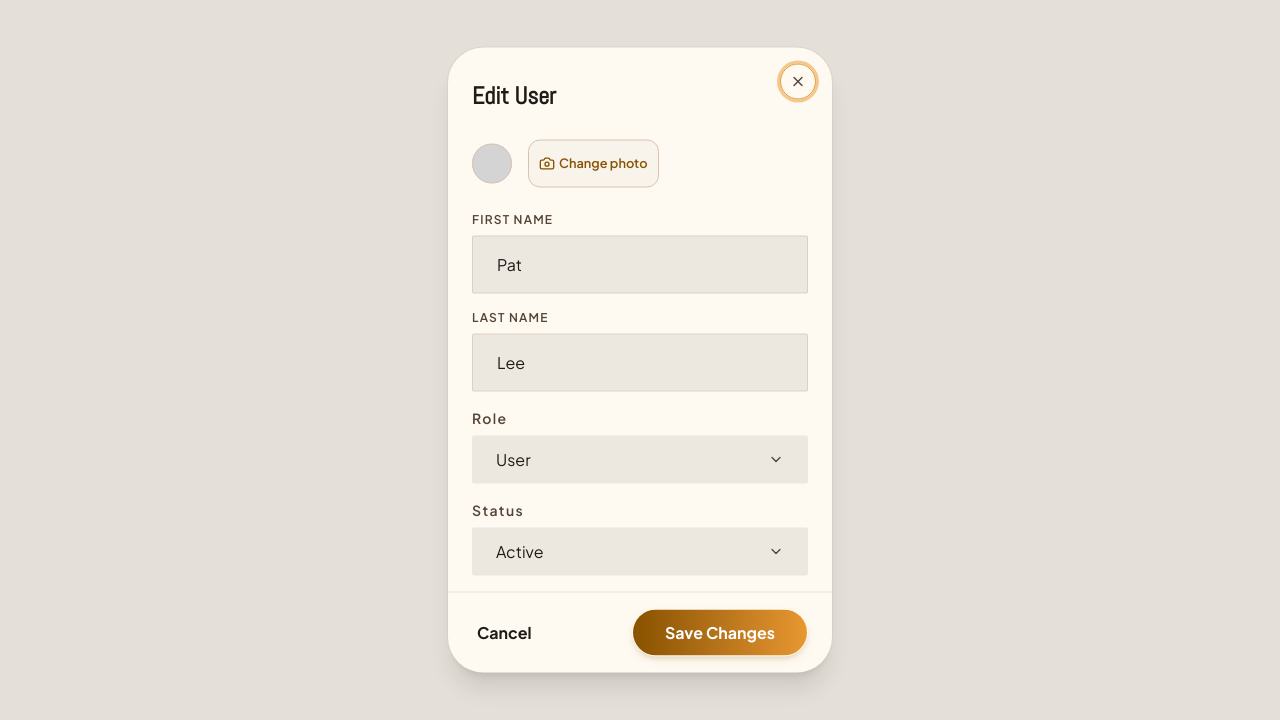
EditUserForm › shows the API error and keeps the dialog open on failure
The width and height of the screenshot is (1280, 720).
Step 1. Click the button "Save Changes" → {"x": 720, "y": 632}, box [632,608,808,656]
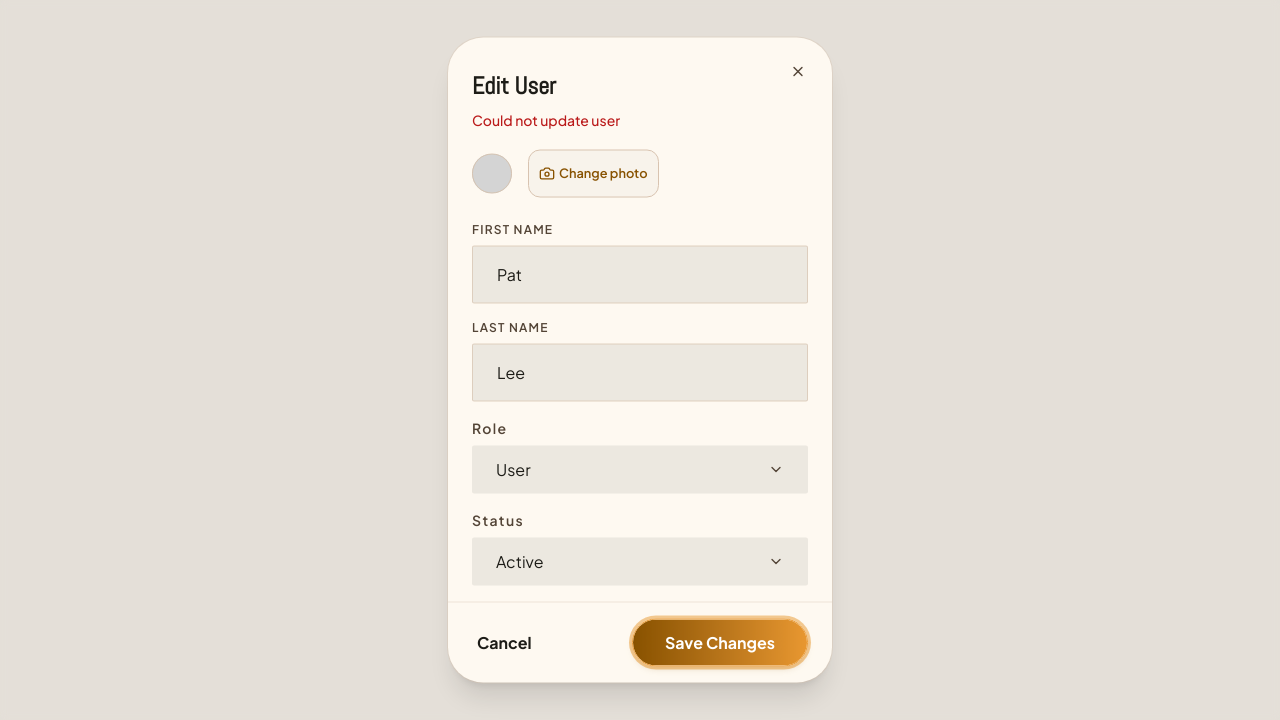
Now the text "Could not update user" is shown, box [472,110,620,130]
